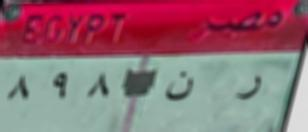8: (85, 70, 111, 104), (5, 74, 33, 105)
9: (47, 68, 72, 110)
noon: (162, 70, 196, 111)
raa: (231, 68, 264, 109)
